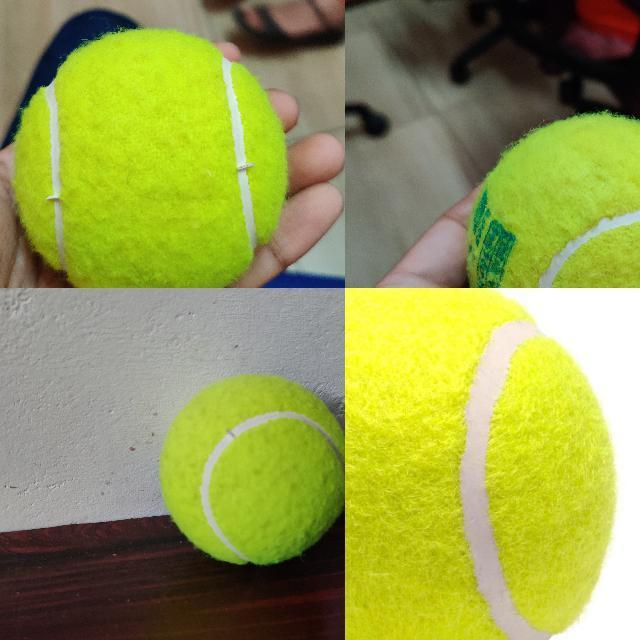tennis-ball: (345, 288, 618, 639), (16, 31, 286, 287), (158, 372, 344, 566), (468, 115, 639, 287)
